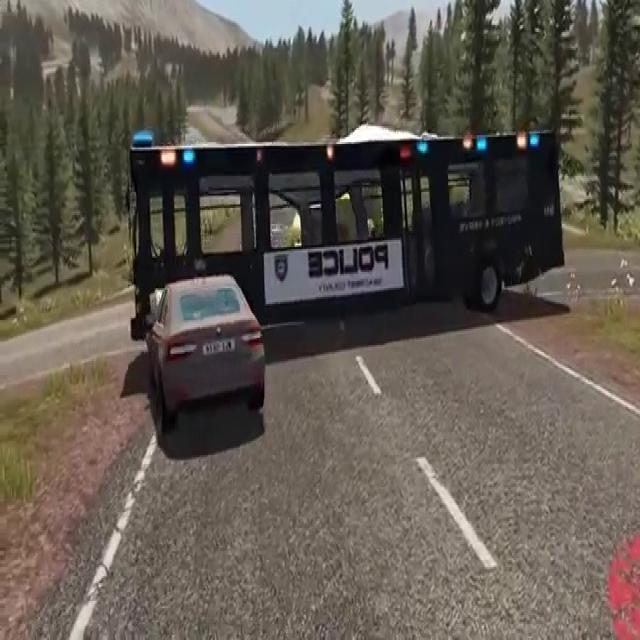accident: (121, 113, 572, 434)
